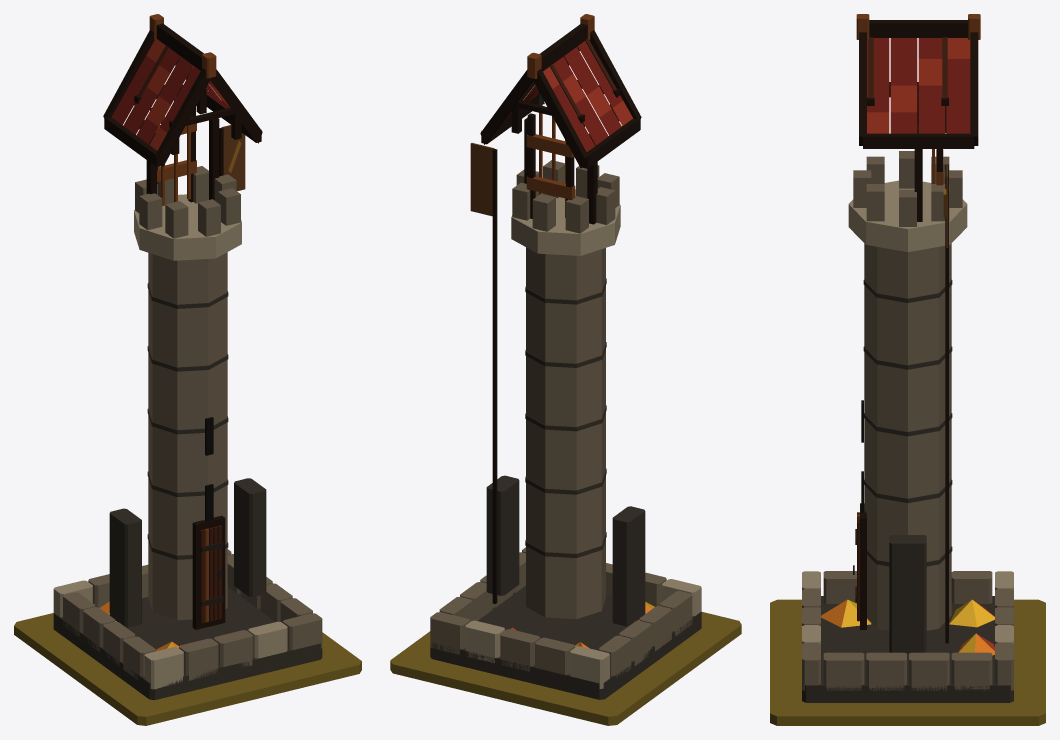
The model's file is archer_tower_t5.glb.
The picture shows the model from 3 angles, left to right: view 1: azimuth 30°, elevation 25°; view 2: azimuth 150°, elevation 25°; view 3: azimuth 270°, elevation 25°; orthographic projection. The views are drawn at different scales.
Visible parts, largest first — view 1: MMR | archer_tower | T05 Architecture.001, MMR | archer_tower | Tier 05 Ground.001, MMR | archer_tower | T05 Roof Supports.001, MMR | archer_tower | T05 Banner Flag 1.001; view 2: MMR | archer_tower | T05 Architecture.001, MMR | archer_tower | Tier 05 Ground.001, MMR | archer_tower | T05 Banner Flag 1.001, MMR | archer_tower | T05 Roof Supports.001; view 3: MMR | archer_tower | T05 Architecture.001, MMR | archer_tower | Tier 05 Ground.001, MMR | archer_tower | T05 Autumn Dressing.001, MMR | archer_tower | T05 Roof Supports.001.
Part boxes in pixels (<box>): MMR | archer_tower | T05 Architecture.001: <box>53,14,322,700</box>; MMR | archer_tower | Tier 05 Ground.001: <box>14,613,361,725</box>; MMR | archer_tower | T05 Roof Supports.001: <box>134,45,241,154</box>; MMR | archer_tower | T05 Banner Flag 1.001: <box>221,125,245,191</box>; MMR | archer_tower | T05 Architecture.001: <box>430,14,701,699</box>; MMR | archer_tower | Tier 05 Ground.001: <box>390,612,741,725</box>; MMR | archer_tower | T05 Banner Flag 1.001: <box>470,143,494,216</box>; MMR | archer_tower | T05 Roof Supports.001: <box>511,38,620,133</box>; MMR | archer_tower | T05 Architecture.001: <box>802,14,1013,702</box>; MMR | archer_tower | Tier 05 Ground.001: <box>770,599,1045,725</box>; MMR | archer_tower | T05 Autumn Dressing.001: <box>821,599,994,655</box>; MMR | archer_tower | T05 Roof Supports.001: <box>867,37,948,132</box>.
Bounding box in the file's own units: 1.3 × 3.39 × 1.3.
1 material, 1 textured.
